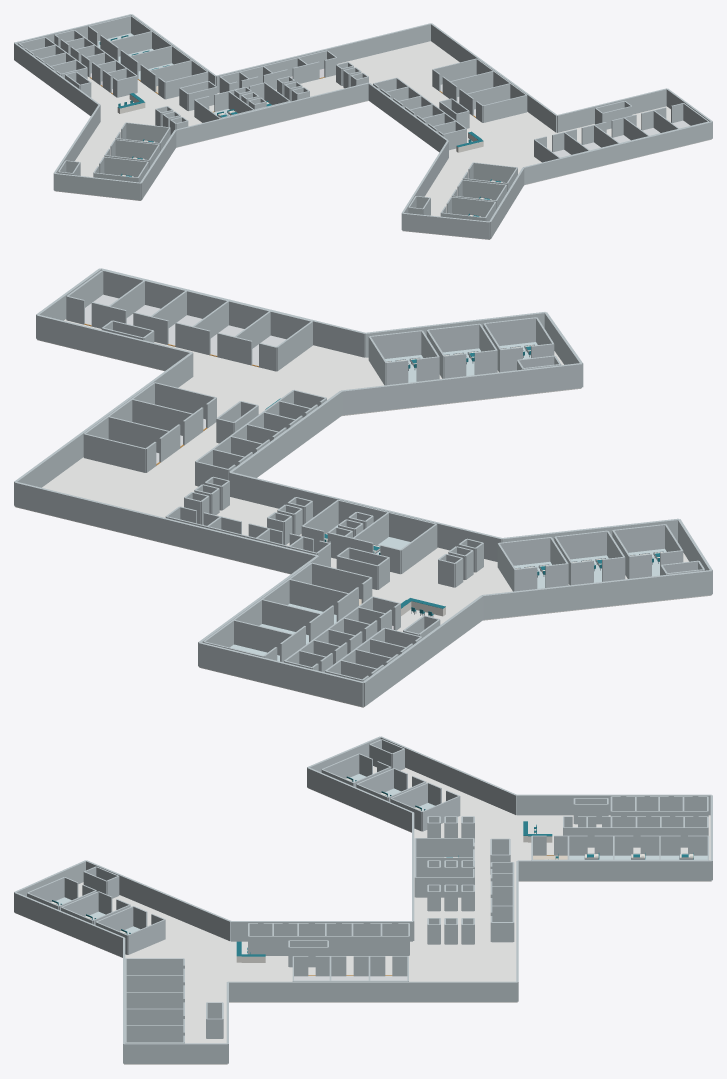
Rendered from dushu-F6.glb.
3 renders of one model, top to bottom at view 1: azimuth 30°, elevation 25°; view 2: azimuth 150°, elevation 25°; view 3: azimuth 270°, elevation 25°, orthographic. The views are drawn at different scales.
Visible parts, largest first — view 1: Floor slab, wall-11, wall-6, wall-2, wall-8, wall-13, wall-15, wall-4, wall-3, wall-10, wall-94, wall-14 (+19 smaller); view 2: Floor slab, wall-2, wall-9, wall-14, wall-0, wall-4, wall-11, wall-15, wall-10, wall-3, wall-6, wall-84 (+26 smaller); view 3: Floor slab, wall-3, wall-1, wall-9, wall-14, wall-7, wall-12, wall-15, wall-5, wall-10, wall-79, wall-101 (+19 smaller).
Part boxes in pixels (bbox=[...]): Floor slab: bbox=[55, 41, 711, 239]; wall-11: bbox=[175, 82, 368, 147]; wall-6: bbox=[523, 121, 712, 184]; wall-2: bbox=[216, 23, 431, 92]; wall-8: bbox=[402, 213, 489, 239]; wall-13: bbox=[54, 173, 140, 200]; wall-15: bbox=[14, 43, 100, 115]; wall-4: bbox=[557, 88, 666, 132]; wall-3: bbox=[431, 23, 556, 132]; wall-10: bbox=[368, 83, 448, 152]; wall-94: bbox=[483, 95, 526, 122]; wall-14: bbox=[53, 104, 100, 189]; Floor slab: bbox=[15, 319, 711, 707]; wall-2: bbox=[14, 482, 318, 573]; wall-9: bbox=[341, 363, 581, 415]; wall-14: bbox=[482, 570, 711, 619]; wall-0: bbox=[198, 642, 363, 706]; wall-4: bbox=[36, 314, 192, 370]; wall-11: bbox=[229, 472, 502, 561]; wall-15: bbox=[362, 595, 483, 706]; wall-10: bbox=[229, 391, 342, 480]; wall-3: bbox=[14, 352, 193, 505]; wall-6: bbox=[101, 268, 365, 357]; wall-84: bbox=[84, 433, 145, 472]; Floor slab: bbox=[15, 766, 711, 1064]; wall-3: bbox=[228, 981, 517, 1001]; wall-1: bbox=[517, 860, 711, 880]; wall-9: bbox=[86, 860, 230, 941]; wall-14: bbox=[380, 736, 516, 814]; wall-7: bbox=[14, 892, 124, 957]; wall-12: bbox=[307, 767, 413, 832]; wall-15: bbox=[516, 794, 711, 815]; wall-5: bbox=[124, 1043, 227, 1063]; wall-10: bbox=[231, 921, 412, 941]; wall-79: bbox=[416, 838, 473, 857]; wall-101: bbox=[125, 958, 183, 975].
Bounding box in the file's own units: 108 × 3.38 × 104.
